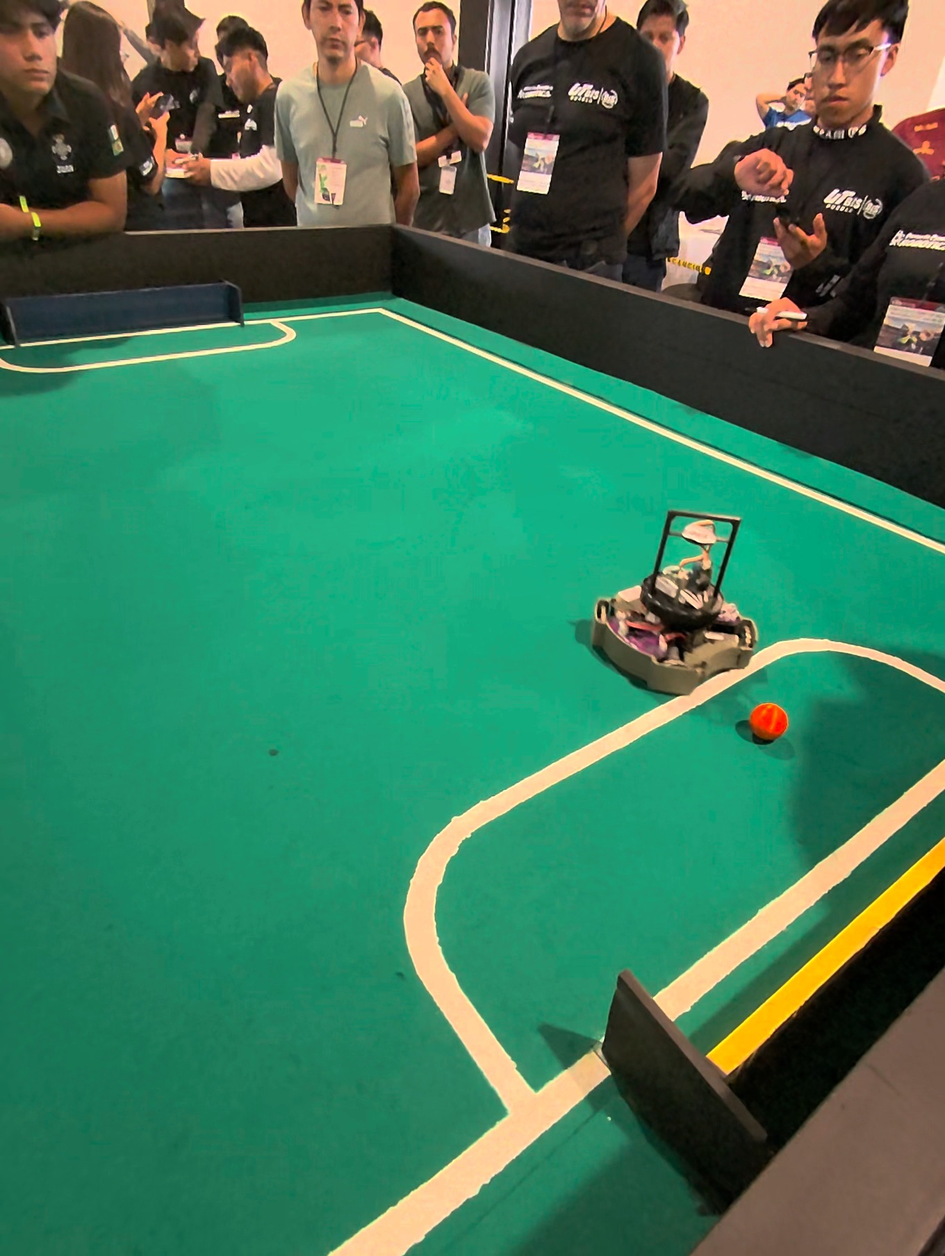Robot: (606, 494, 764, 686)
pelota: (749, 704, 788, 741)
